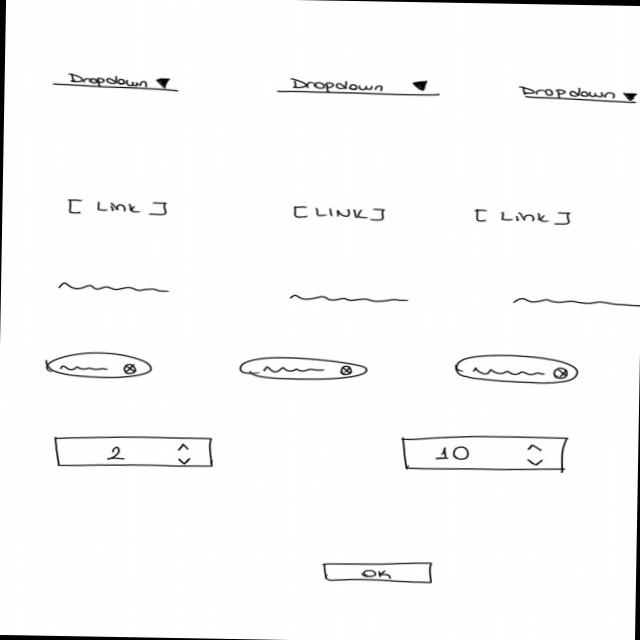button: (323, 560, 435, 585)
link: (474, 208, 575, 229), (66, 199, 169, 219), (294, 205, 388, 222)
number-input: (401, 434, 570, 475), (52, 434, 215, 472)
select: (275, 76, 444, 98), (51, 72, 181, 94), (517, 83, 640, 105)
text: (509, 295, 640, 309), (57, 281, 172, 296), (288, 293, 415, 305)
